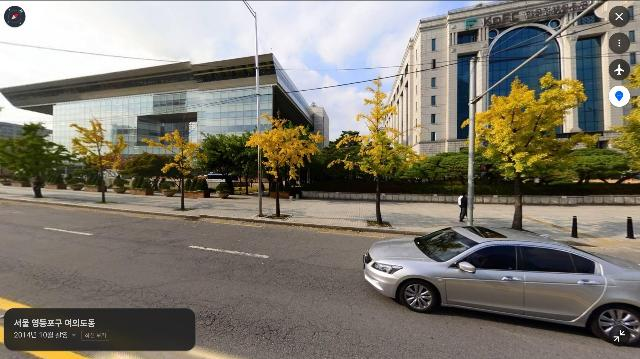ginkgo: (461, 71, 595, 231), (326, 76, 429, 225), (245, 108, 326, 218), (140, 128, 210, 211), (69, 117, 129, 204), (607, 64, 640, 162)
other: (391, 149, 468, 195)
